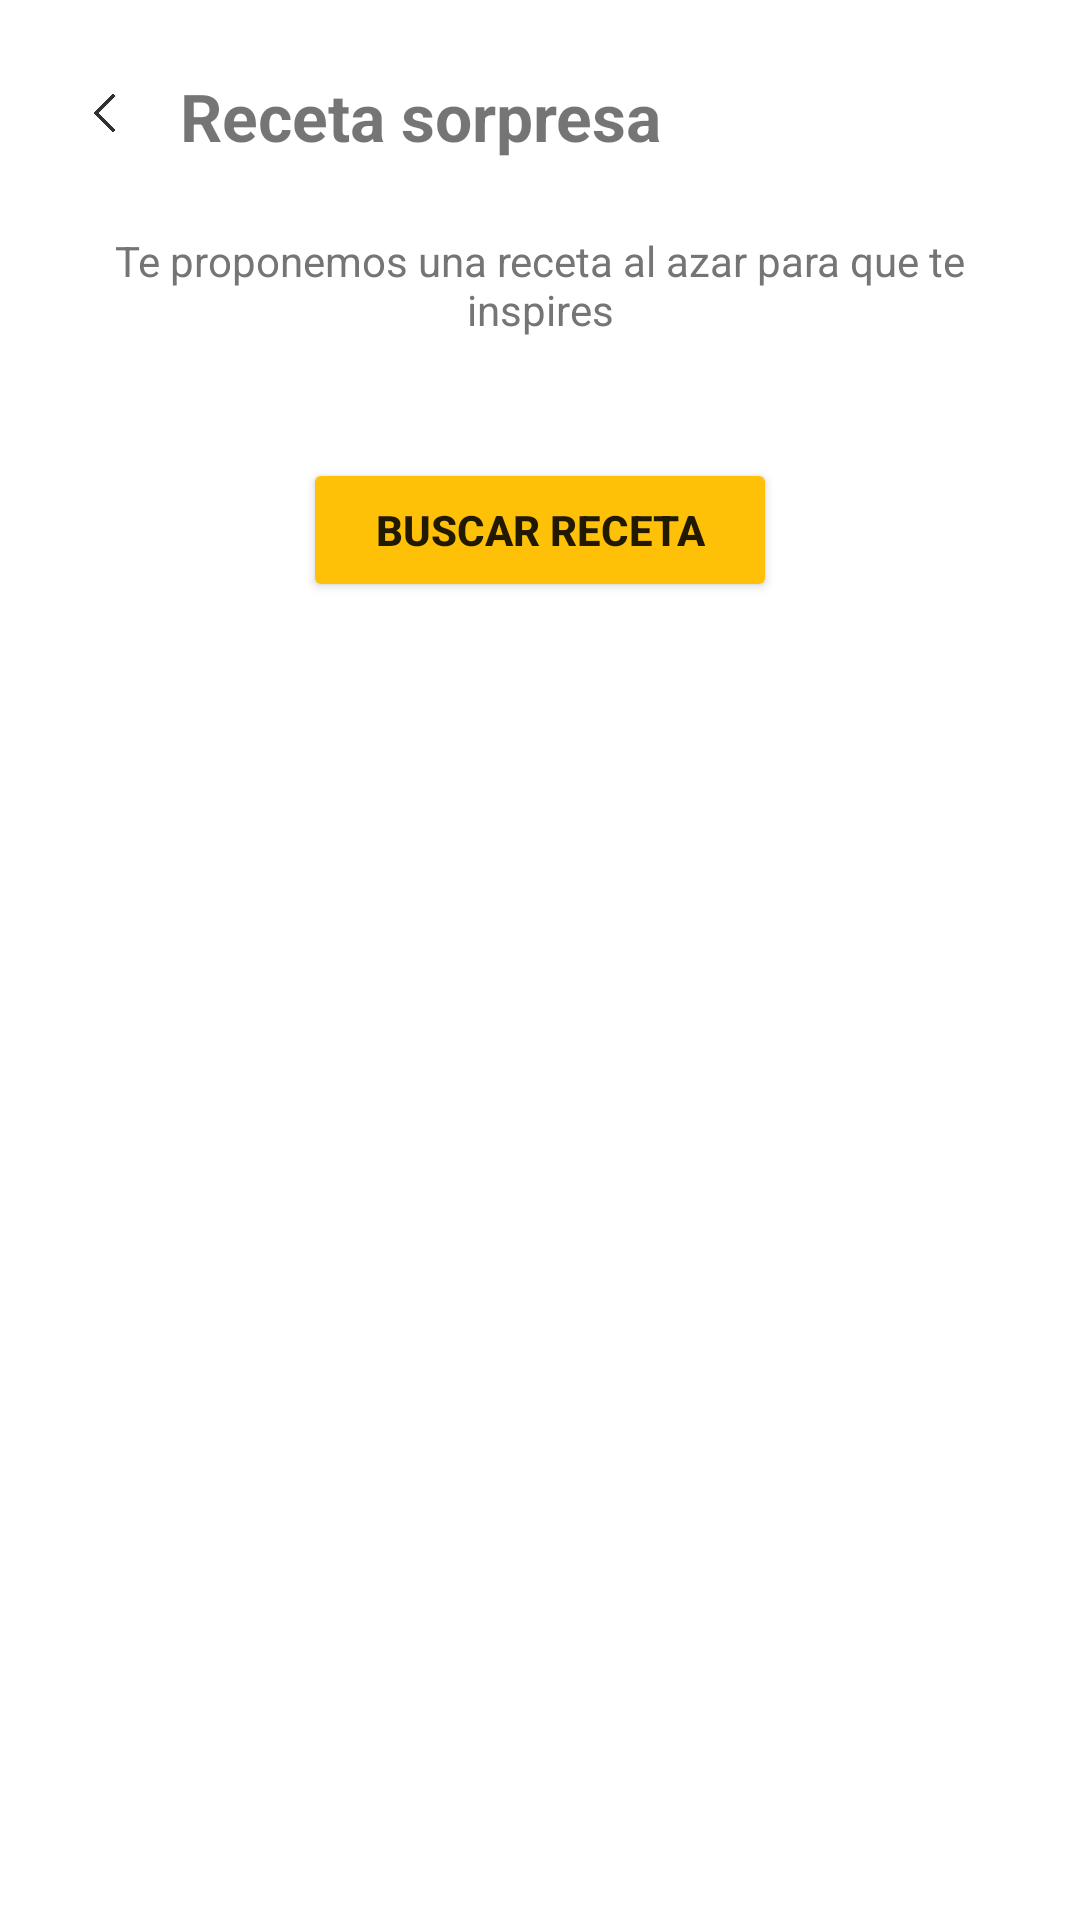

Icons on this 1080x1920 Android screen, each with the point to tap as (x=x, y=y):
flecha atras: (x=104, y=113)
